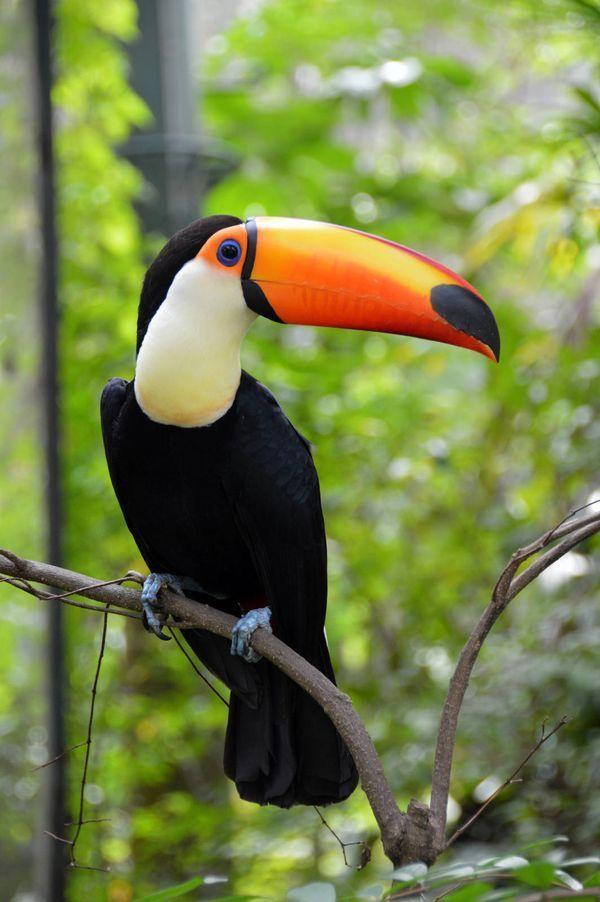toucan: (102, 217, 499, 806)
